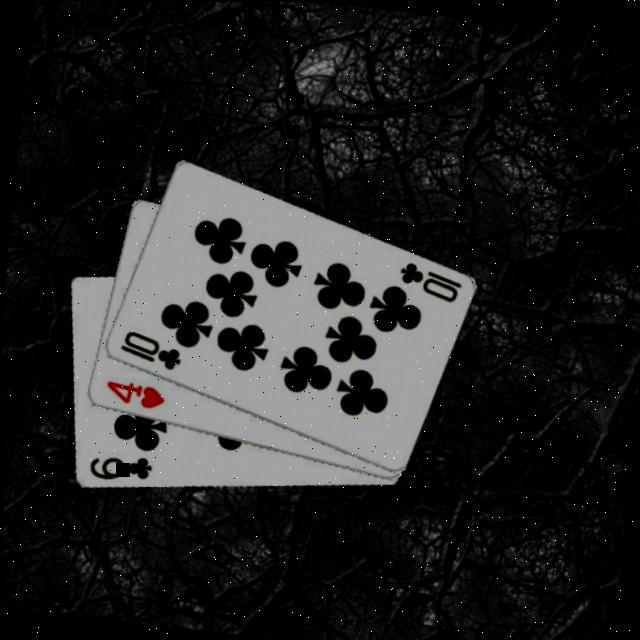10C: (394, 256, 466, 304), (116, 324, 186, 372)
4H: (102, 375, 170, 412)
6C: (86, 446, 156, 485)
